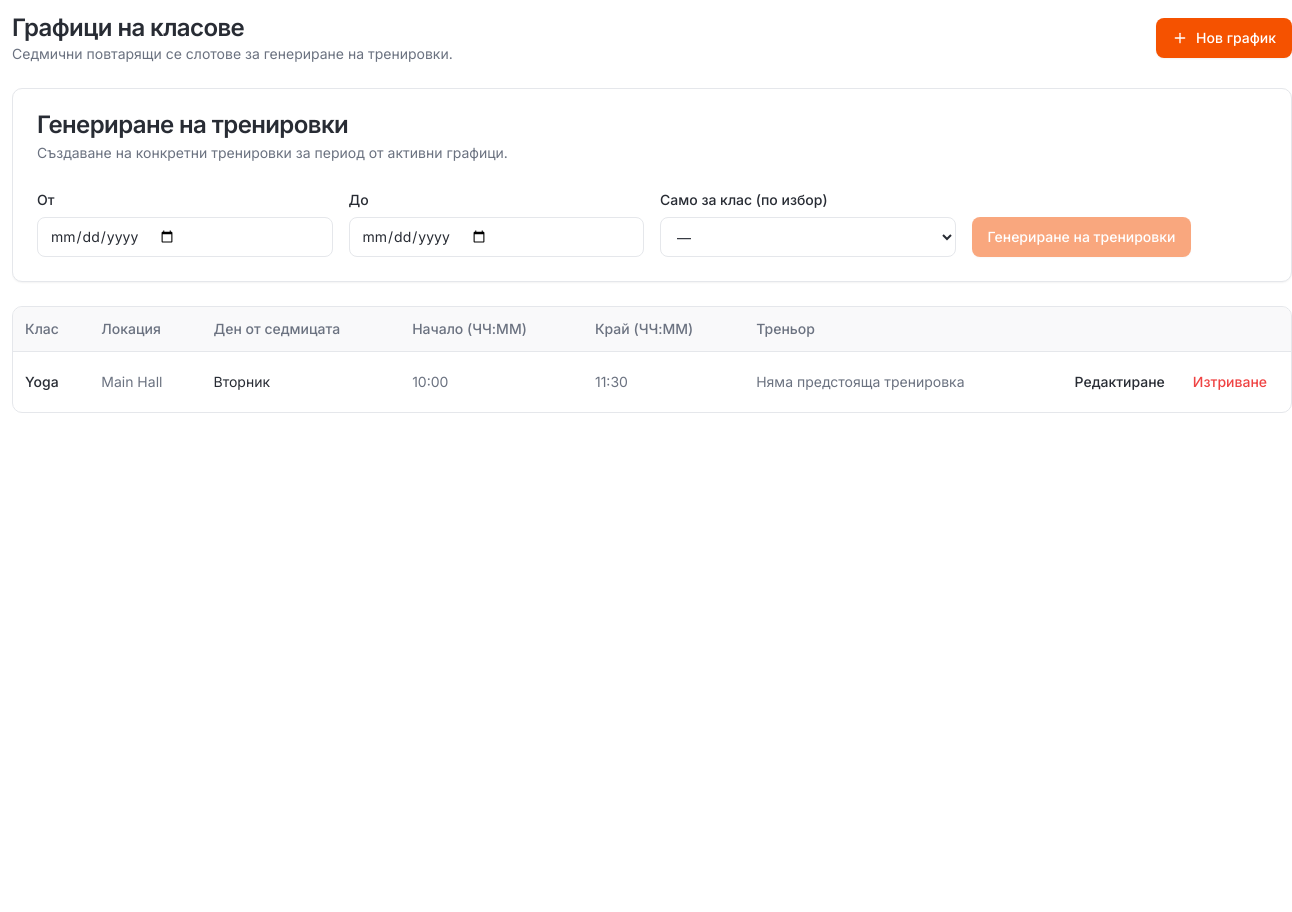
it: SchedulesListPage › confirms generated sessions through the toast
The image size is (1292, 912).
Expected: the text "Main Hall" is shown, x1=89 y1=352 x2=202 y2=412
Type "2026-04-01" into the date field labelled "От" at coordinates (185, 237), box x1=37 y1=217 x2=332 y2=257
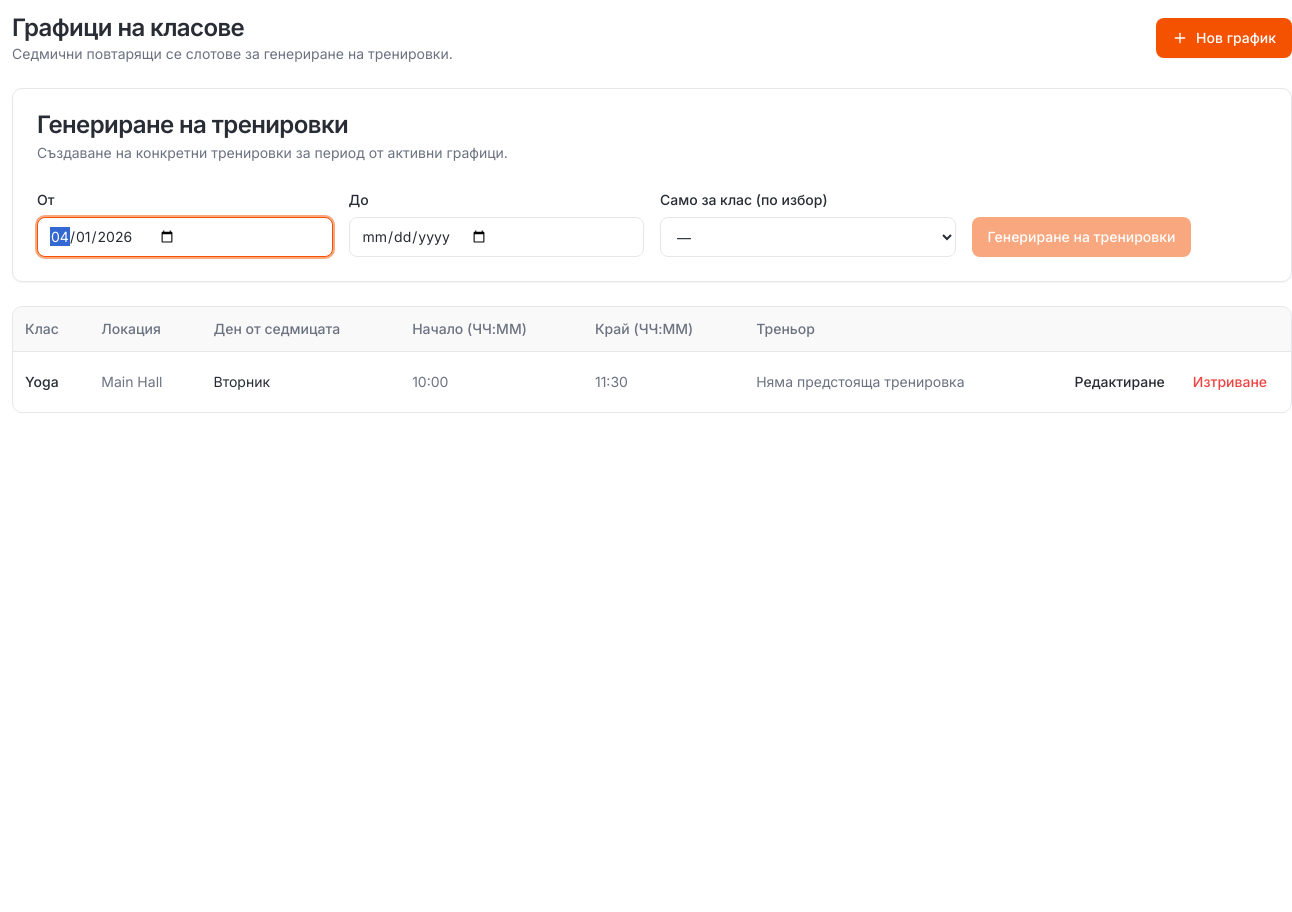
Type "2026-04-30" into the date field labelled "До" at coordinates (496, 237), box x1=348 y1=217 x2=644 y2=257
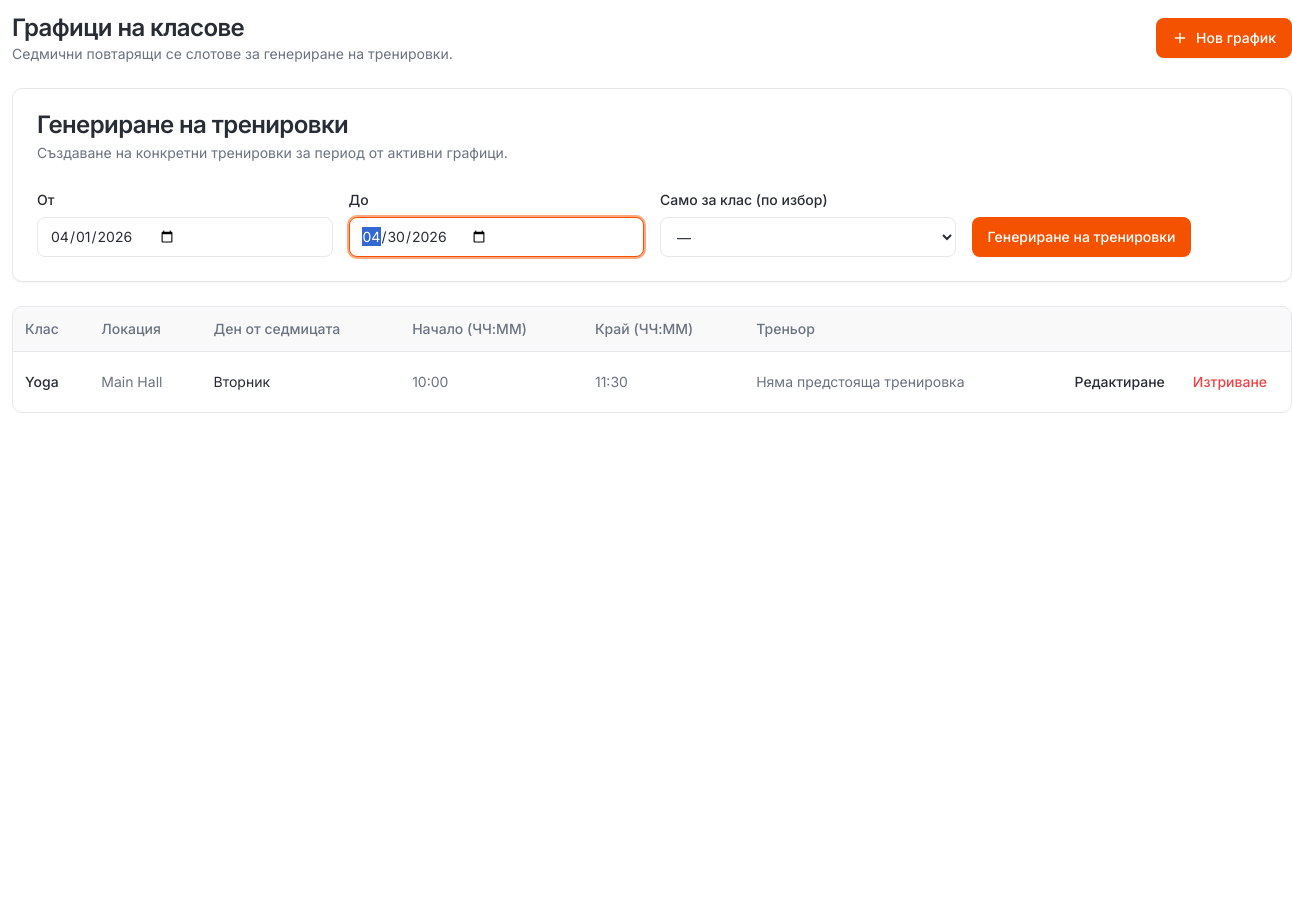
Click the button "Генериране на тренировки" at coordinates (1082, 237), box x1=972 y1=217 x2=1192 y2=257
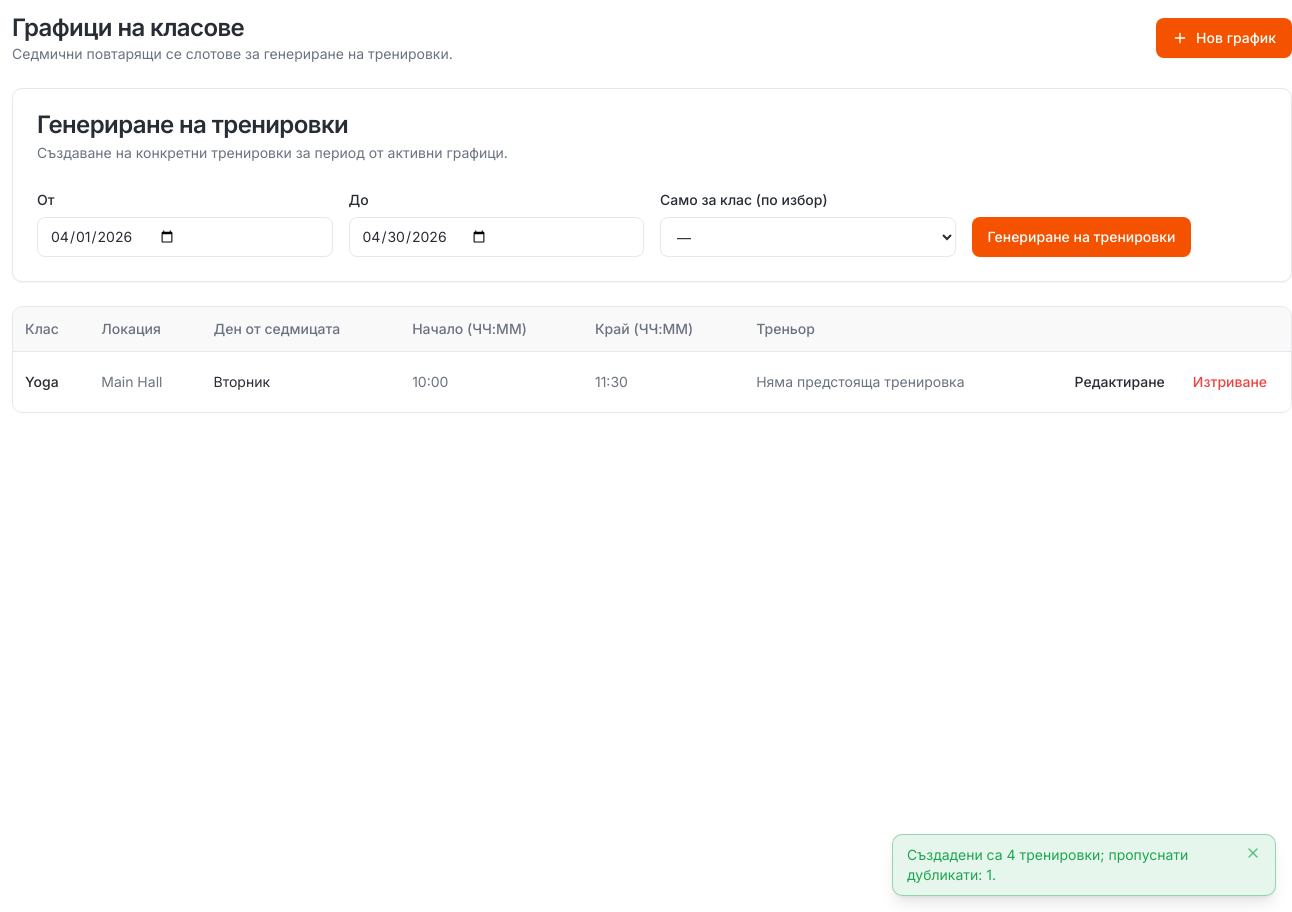
Result: the text "Създадени са 4 тренировки; пропуснати дубликати: 1." is shown at x1=892 y1=834 x2=1276 y2=896
